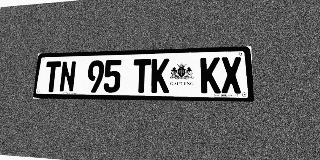5: (103, 60, 121, 93)
9: (86, 60, 105, 92)
K: (200, 57, 221, 93), (151, 58, 169, 93)
N: (59, 61, 77, 92)
T: (132, 59, 151, 93), (43, 61, 61, 92)
X: (221, 57, 242, 93)
